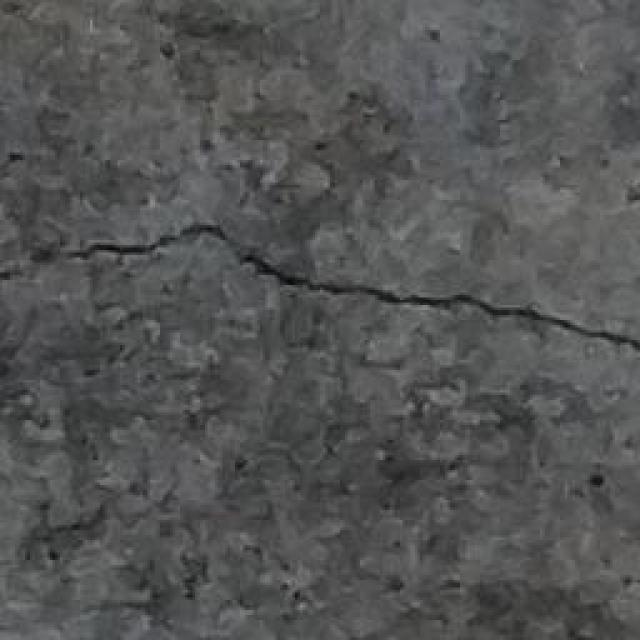Transverse: (2, 196, 640, 379)
